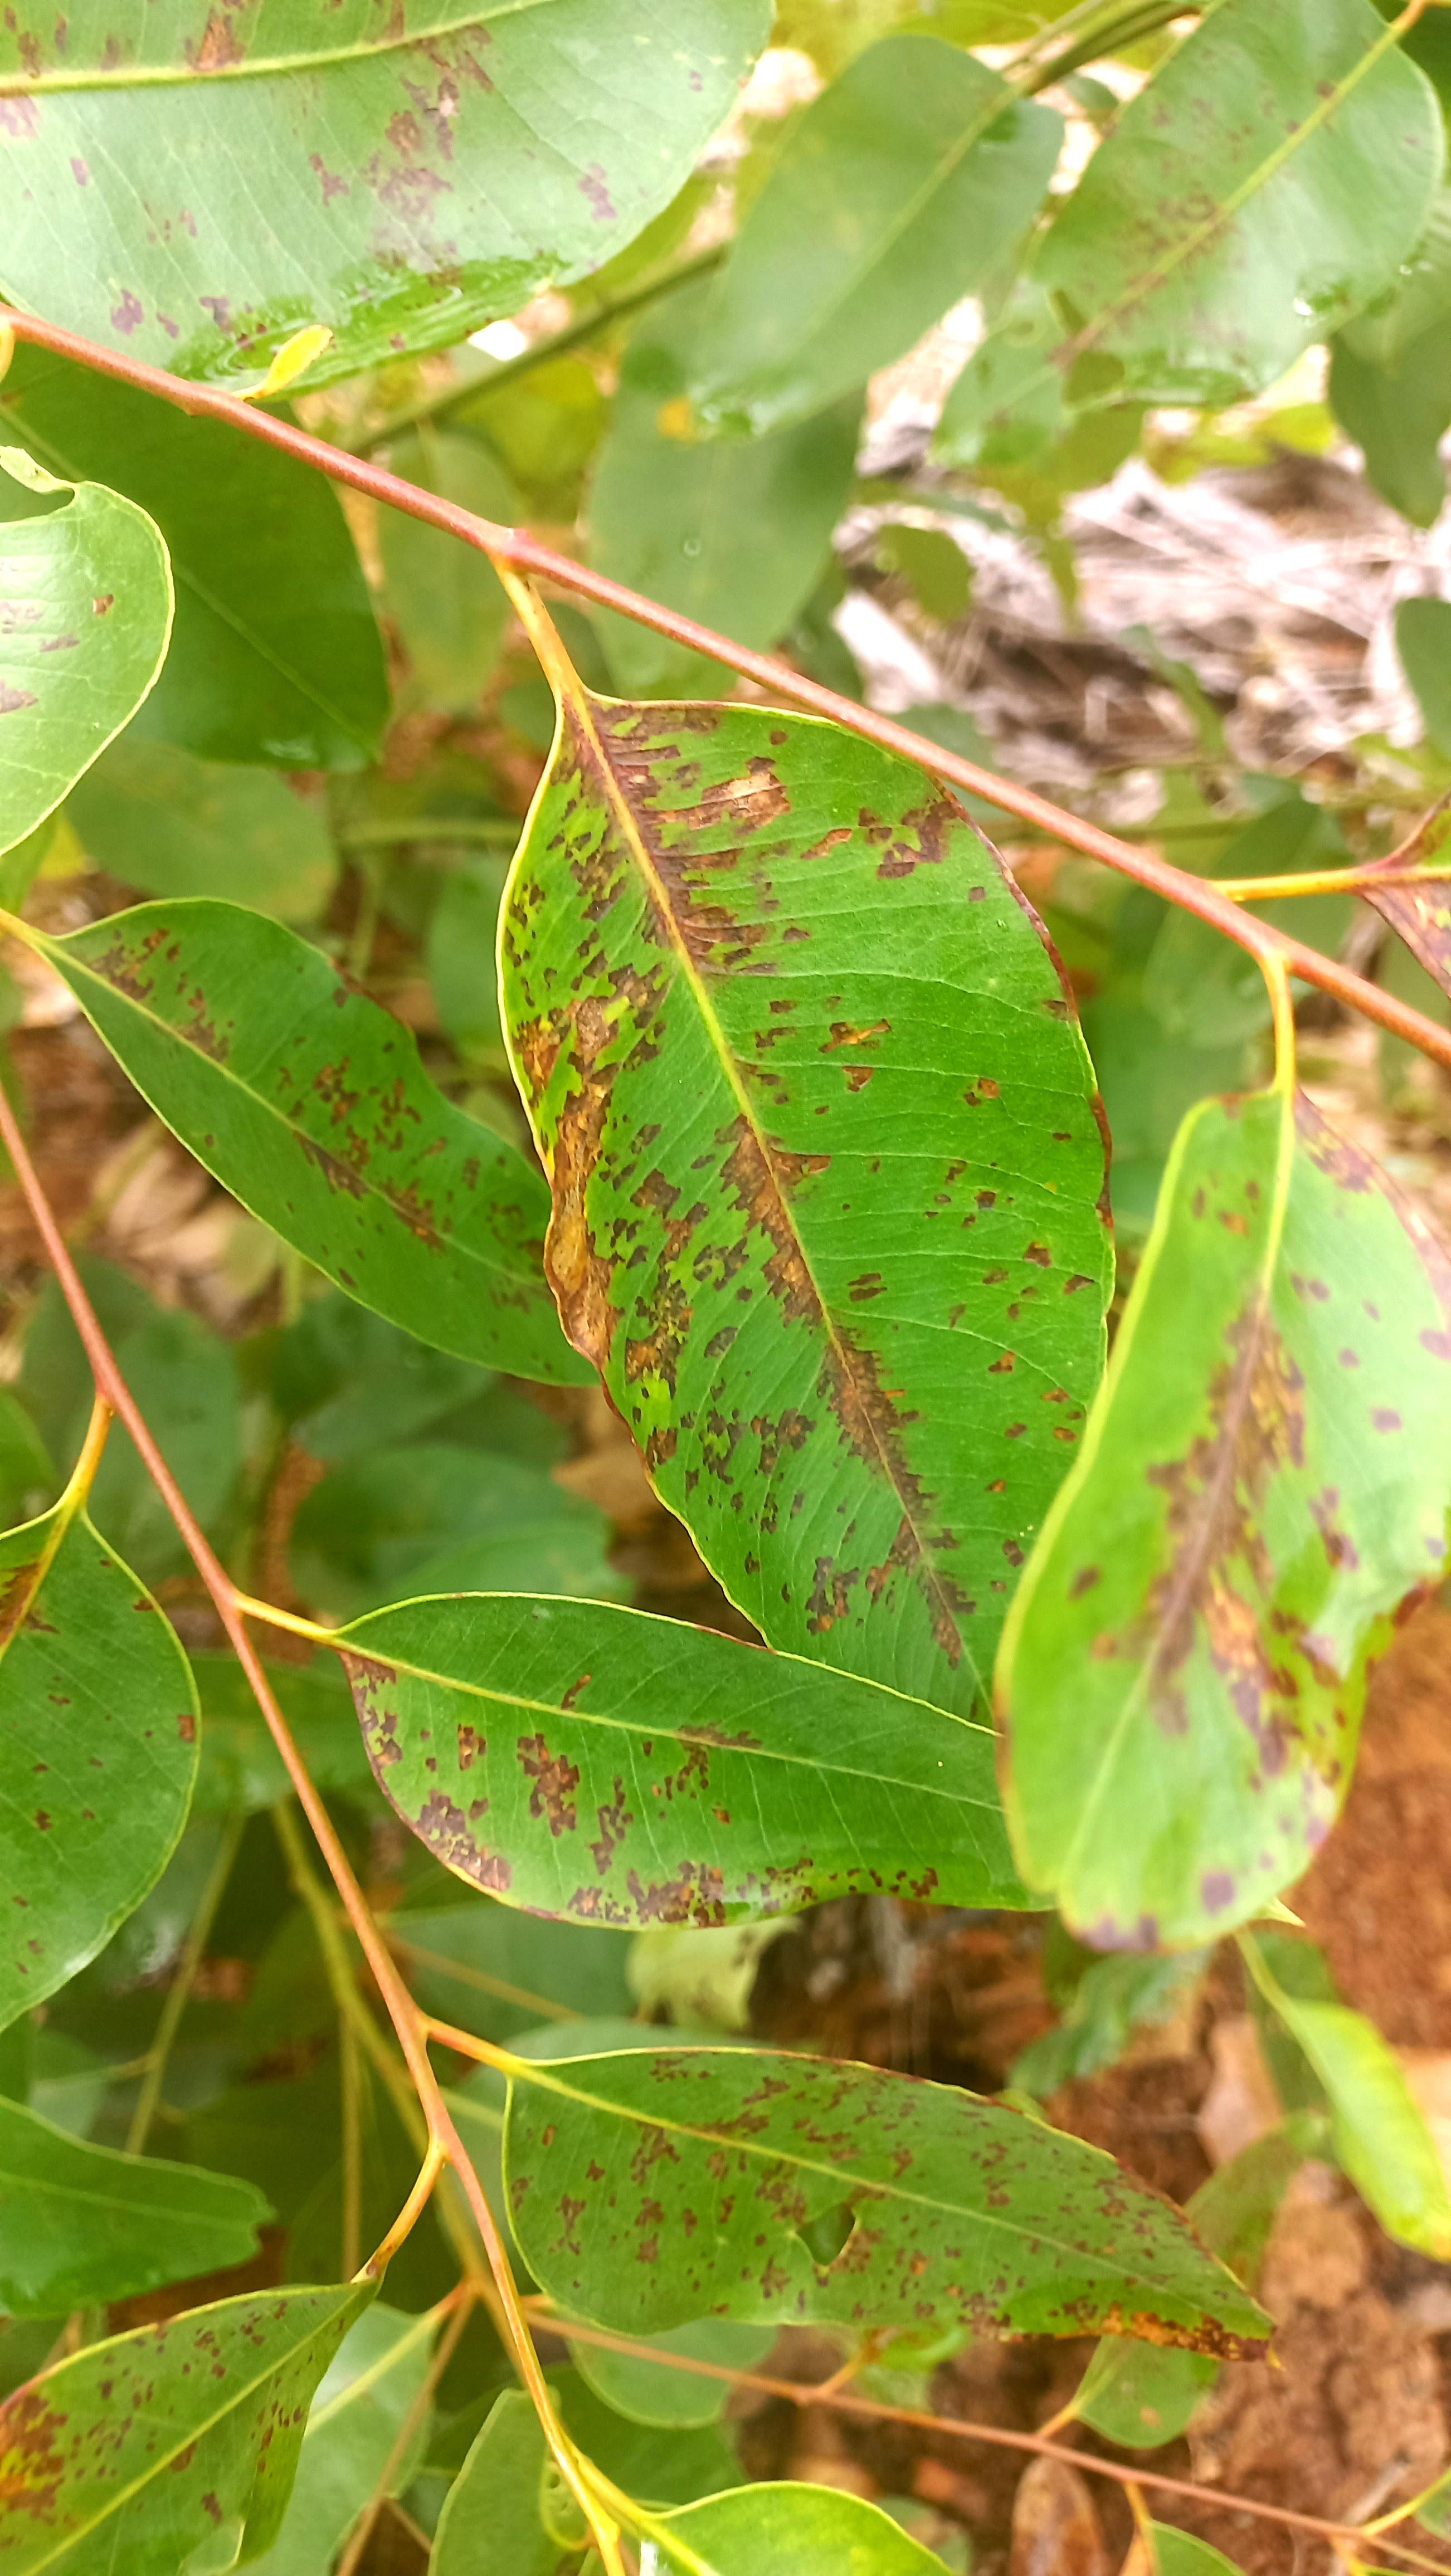Xanthomonas: (529, 702, 993, 1642)
